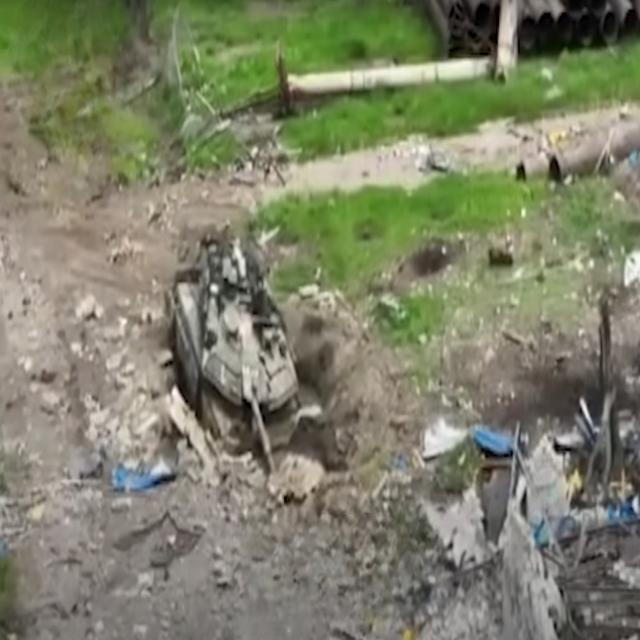MBT: (170, 237, 301, 468)
